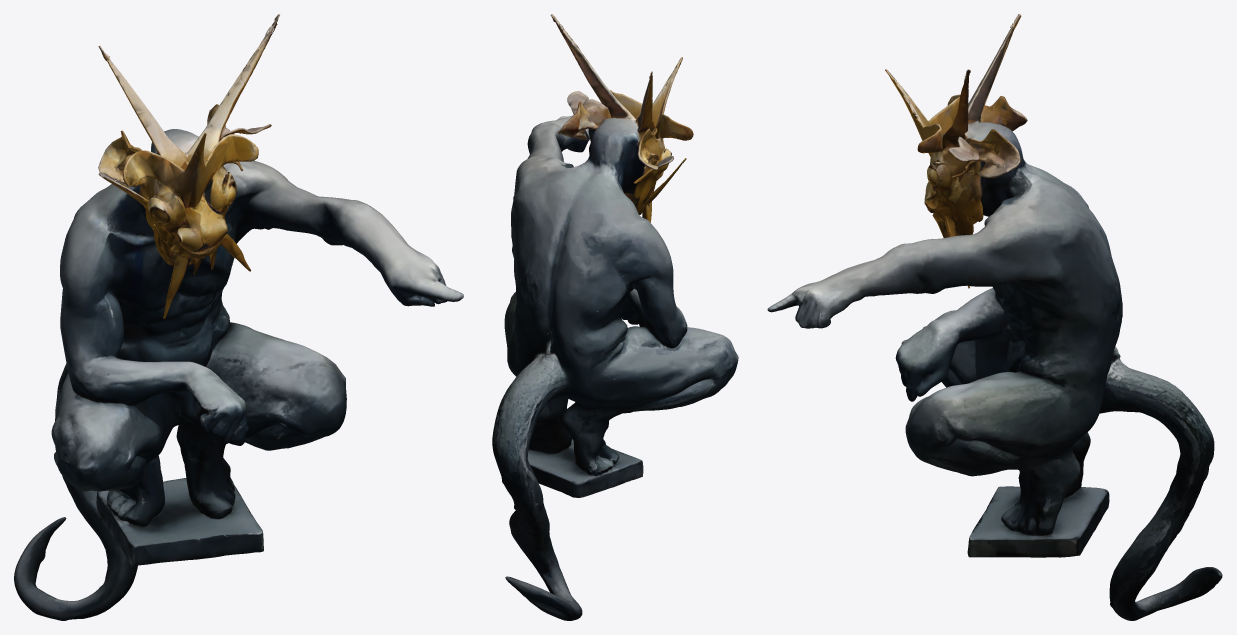
File: figura.glb
3 views of the same model, side by side, from view 1: azimuth 30°, elevation 25°; view 2: azimuth 150°, elevation 25°; view 3: azimuth 270°, elevation 25° (orthographic). The views are drawn at different scales.
Visible parts, largest first — view 1: tripo_node_a927c139-06d6-4823-9f7d-dbfce3d650d8; view 2: tripo_node_a927c139-06d6-4823-9f7d-dbfce3d650d8; view 3: tripo_node_a927c139-06d6-4823-9f7d-dbfce3d650d8.
Part boxes in pixels (x1,y1,x2,y2): tripo_node_a927c139-06d6-4823-9f7d-dbfce3d650d8: [14, 14, 463, 620]; tripo_node_a927c139-06d6-4823-9f7d-dbfce3d650d8: [492, 14, 738, 620]; tripo_node_a927c139-06d6-4823-9f7d-dbfce3d650d8: [767, 14, 1222, 620].
Size of the model in its own units: 0.4843 by 0.9807 by 0.6763.
Materials: 1 (1 with a texture image).
